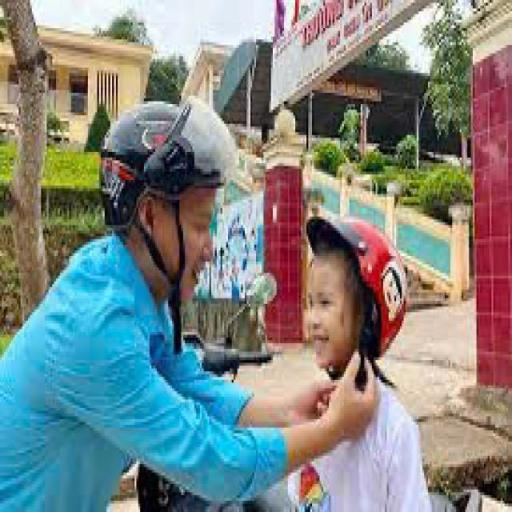with helmet: (98, 95, 234, 229), (307, 211, 409, 358)
